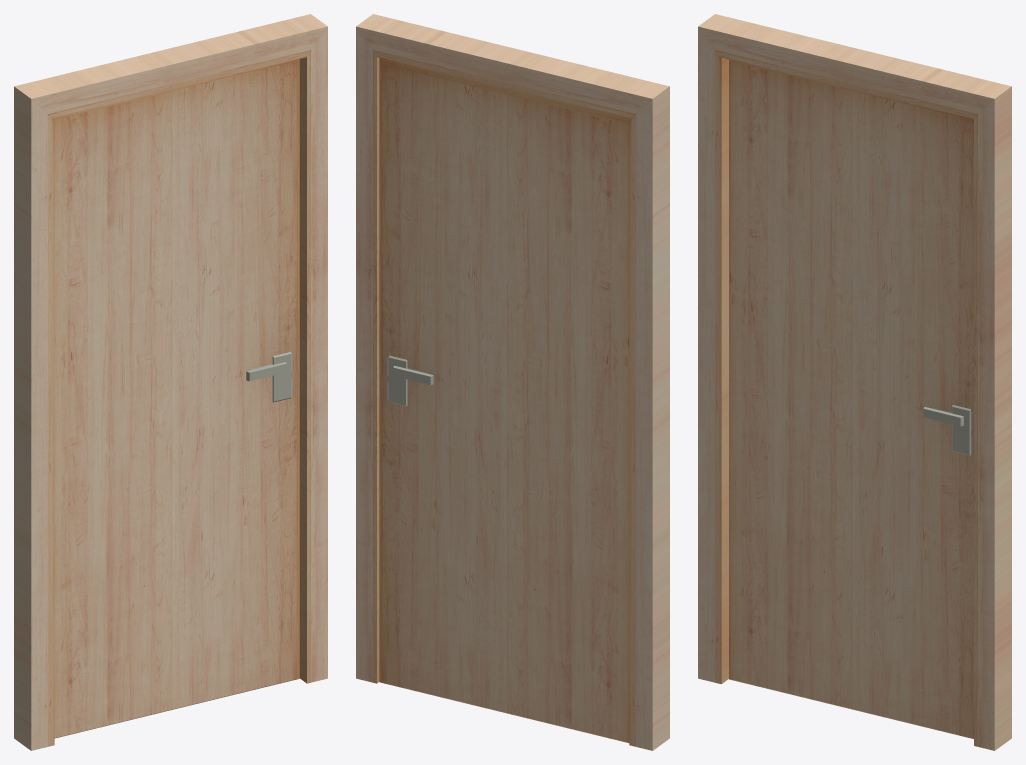
File: door.fbx
3 renders of one model, left to right at view 1: azimuth 30°, elevation 25°; view 2: azimuth 150°, elevation 25°; view 3: azimuth 330°, elevation 25°, orthographic.
Parts seen in each view (by area): view 1: LowPolyDoor 03.001; view 2: LowPolyDoor 03.001; view 3: LowPolyDoor 03.001.
Part boxes in pixels (x1,y1,x2,y2): LowPolyDoor 03.001: (14,14,327,750); LowPolyDoor 03.001: (356,14,669,750); LowPolyDoor 03.001: (698,14,1011,750).
Bounding box in the file's own units: 99.9 × 210 × 10.78.
Materials: 2 (1 with a texture image).
